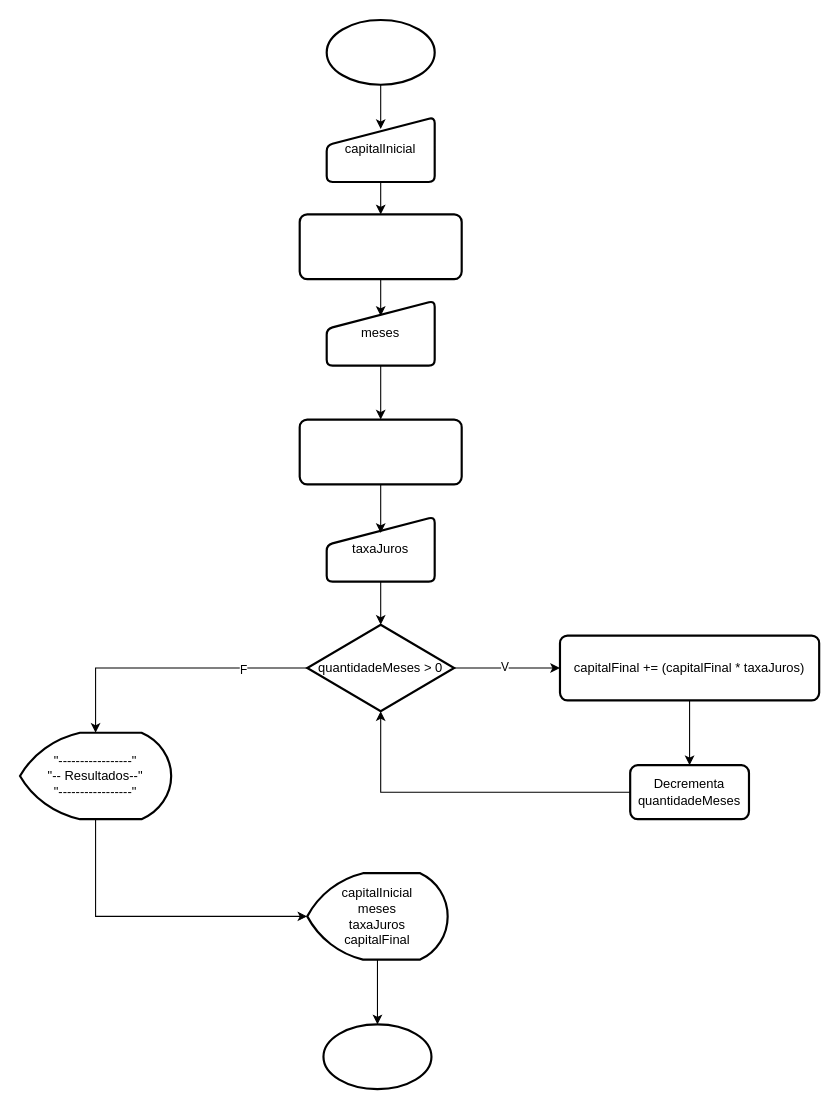
The diagram is 838 pixels wide and 1108 high, and some of its shapes have lost their labels. The shapes that lost their labels are listed below. From the top down, each one's centre as x and y in pixels, then its label:
At point (380, 51): "INICIO".
At point (380, 246): "capitalFinal = capitalInicial".
At point (380, 451): "quantidadeMeses = meses".
At point (377, 1056): "FIM".
